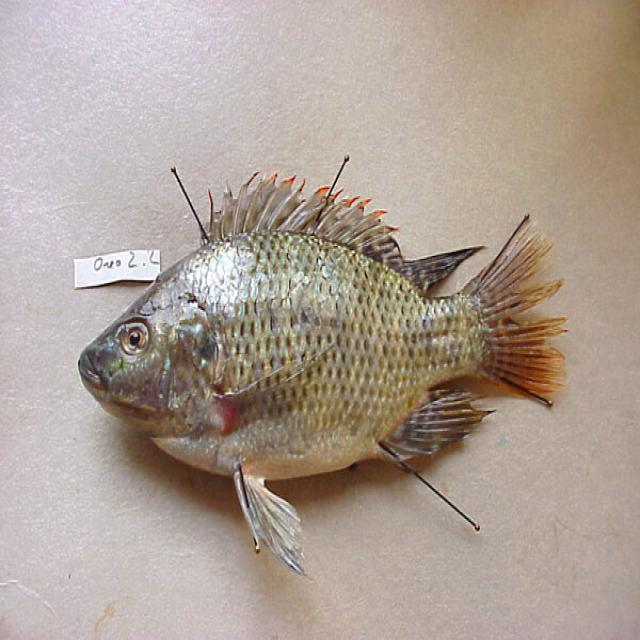ikan: (58, 136, 584, 574)
